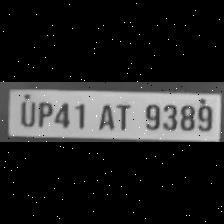1: (72, 100, 90, 130)
3: (160, 101, 178, 131)
4: (51, 100, 71, 128)
8: (178, 100, 195, 132)
9: (195, 100, 213, 132), (142, 101, 160, 129)
A: (94, 99, 116, 130)
P: (34, 98, 52, 128)
T: (113, 99, 134, 130)
U: (15, 98, 35, 127)
